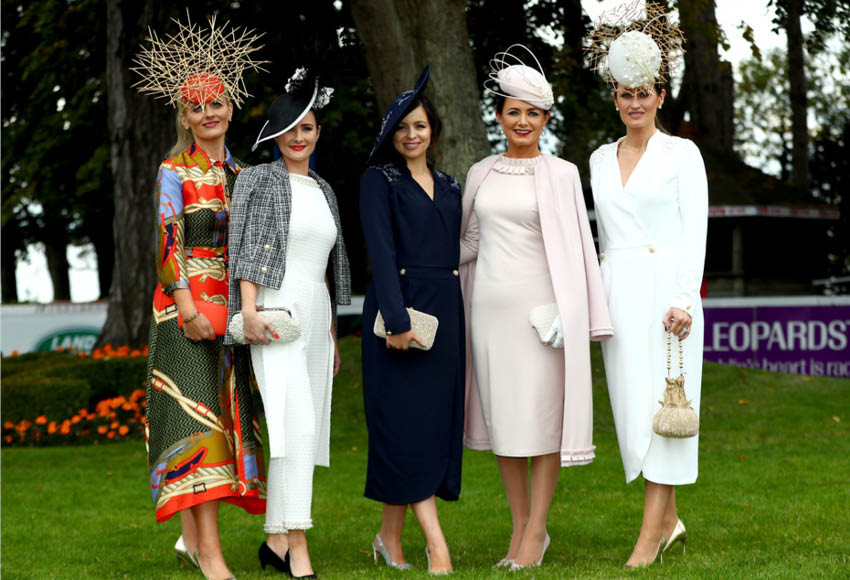Person: (463, 43, 593, 573), (590, 5, 709, 568), (127, 8, 237, 580), (238, 67, 352, 580), (363, 63, 463, 573)
